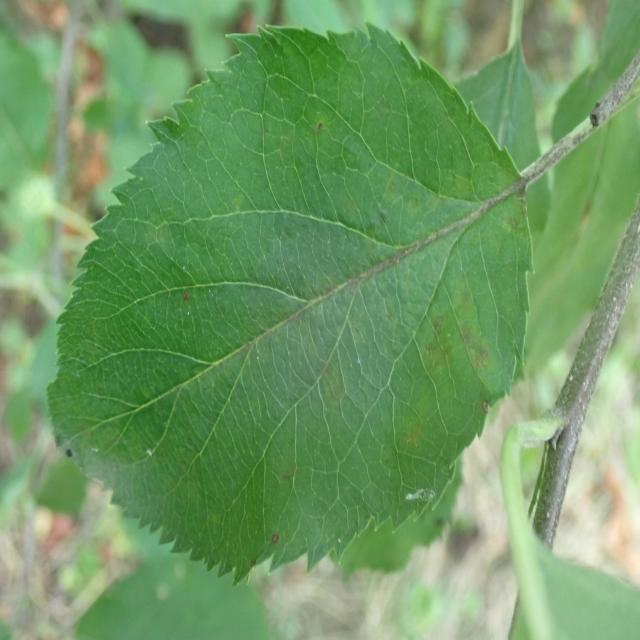scab: (164, 186, 538, 512)
